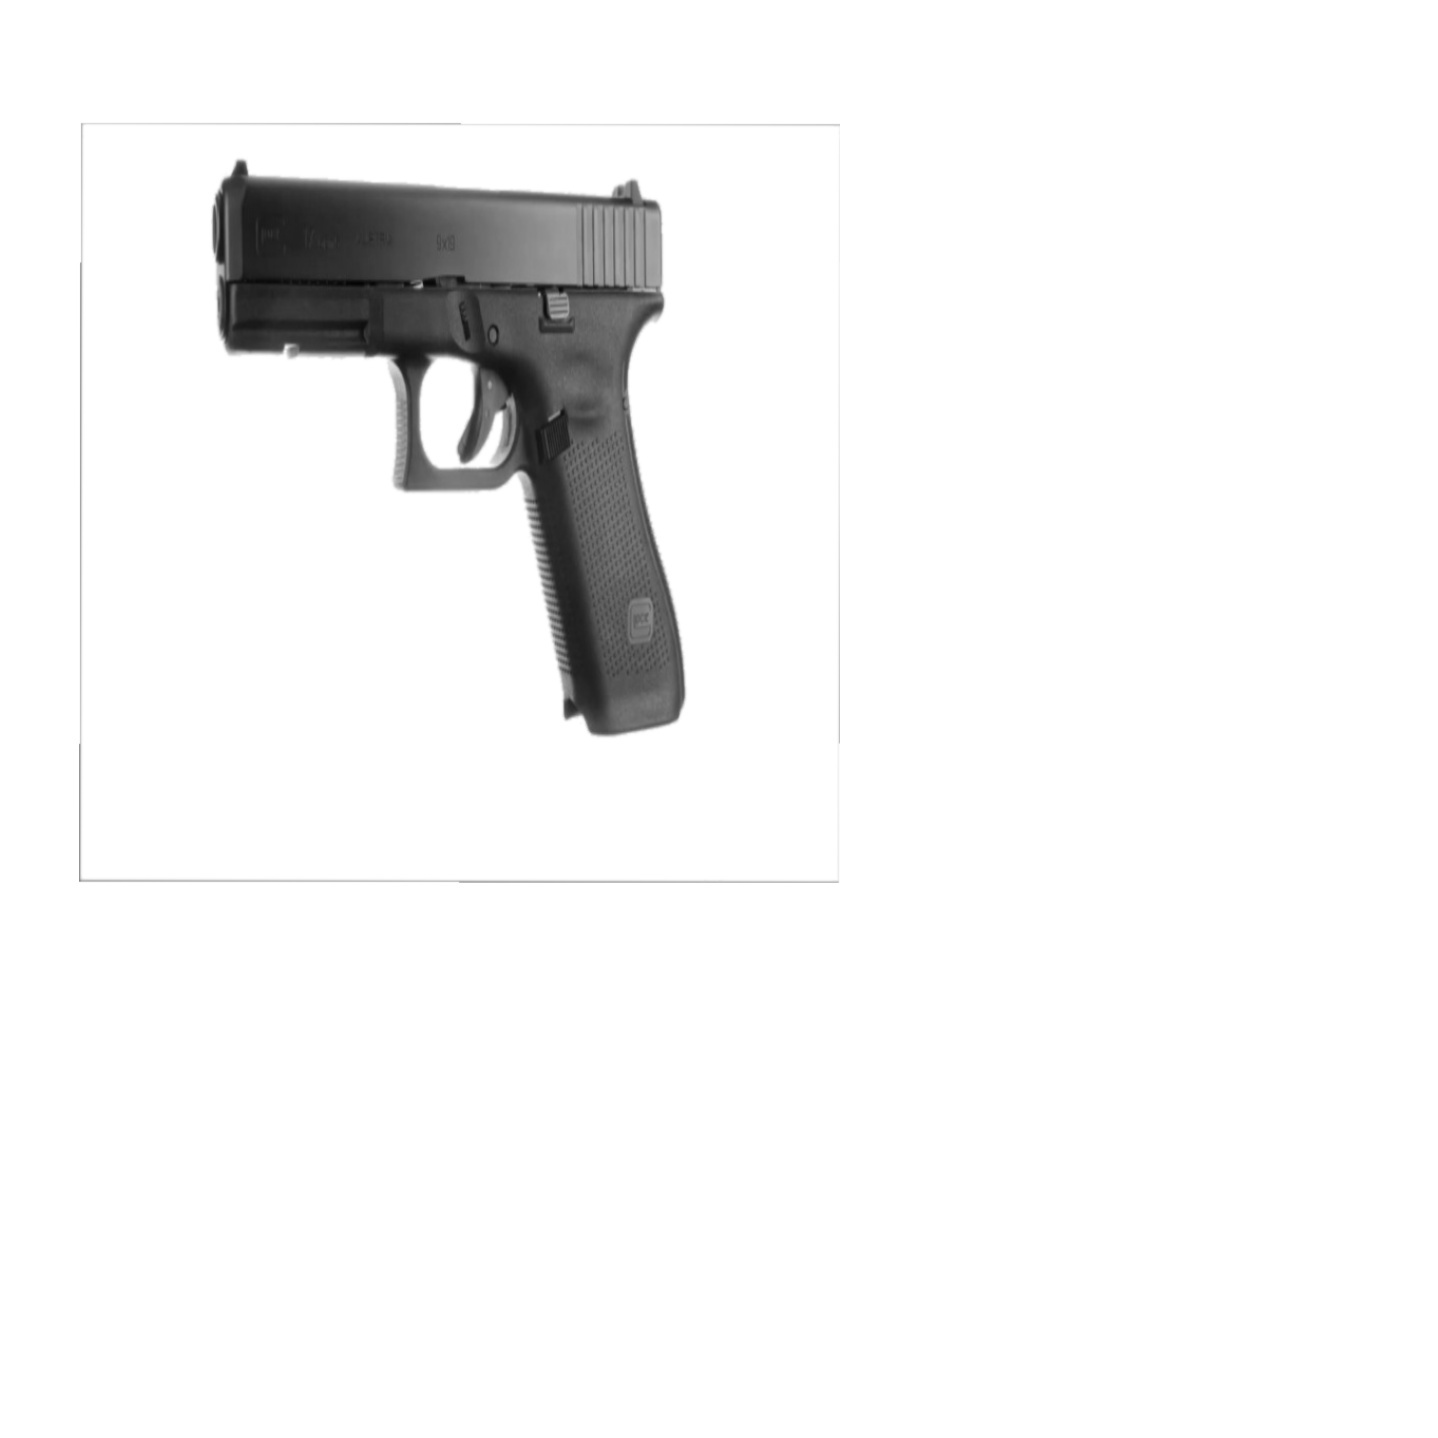gun: (187, 149, 712, 740)
